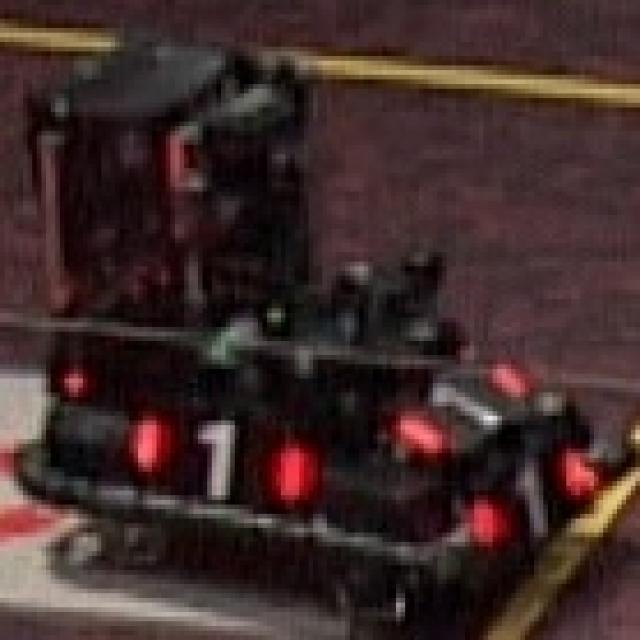R1: (129, 411, 313, 505), (469, 448, 598, 552), (396, 360, 529, 458)
